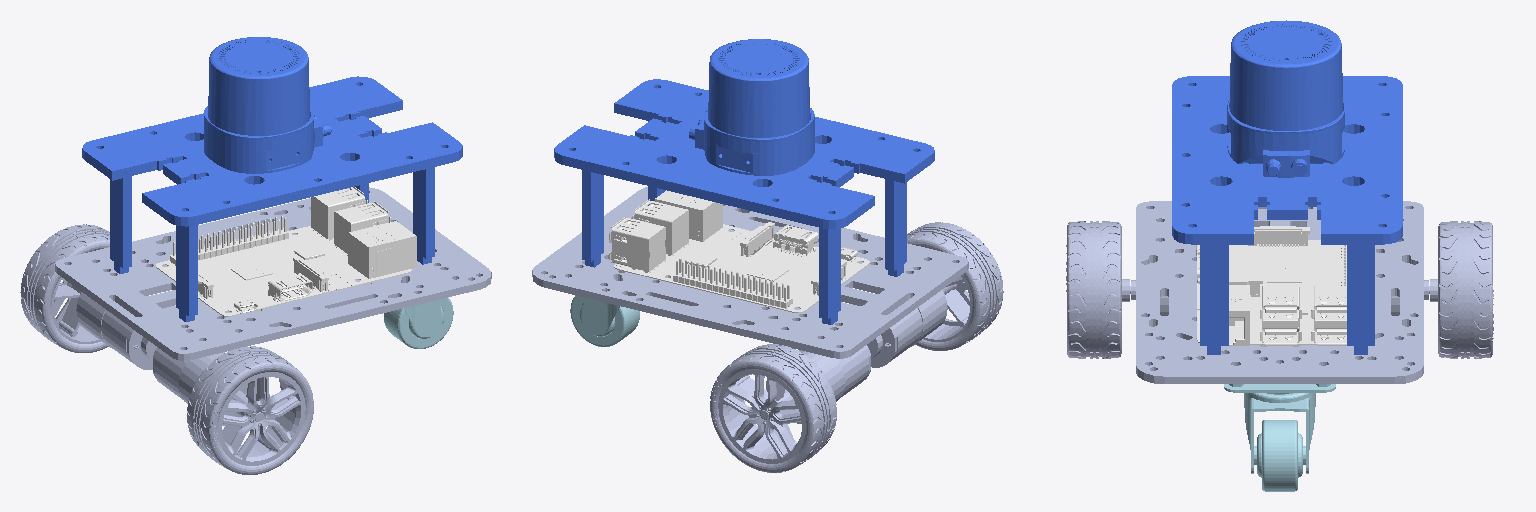
The robot description file, URDF, robot "robot_description":
<?xml version="1.0" encoding="utf-8"?>
<!-- This URDF was automatically created by SolidWorks to URDF Exporter! Originally created by [author] ([email redacted]) 
     Commit Version: 1.6.0-4-g7f85cfe  Build Version: 1.6.7995.38578
     For more information, please see http://wiki.ros.org/sw_urdf_exporter -->
<robot
  name="robot_description">

  <link name="base_footprint"/>

  <joint name="base_joint" type="fixed">
    <parent link="base_footprint"/>
    <child link="base_link"/>
    <origin xyz="0.0 0.0 0.05" rpy="0 0 0"/>
  </joint>

  <link
    name="base_link">
    <inertial>
      <origin
        xyz="2.6246E-14 2.3582E-14 -0.0015"
        rpy="0 0 0" />
      <mass
        value="0.039002" />
      <inertia
        ixx="3.2716E-05"
        ixy="-2.1462E-13"
        ixz="-2.6892E-20"
        iyy="6.7767E-05"
        iyz="1.2263E-20"
        izz="0.00010042" />
    </inertial>
    <visual>
      <origin
        xyz="0 0 0"
        rpy="0 0 0" />
      <geometry>
        <mesh
          filename="package://robot_description/meshes/base_link.STL" />
      </geometry>
      <material
        name="">
        <color
          rgba="0.79216 0.81961 0.93333 1" />
      </material>
    </visual>
    <collision>
      <origin
        xyz="0 0 0"
        rpy="0 0 0" />
      <geometry>
        <mesh
          filename="package://robot_description/meshes/base_link.STL" />
      </geometry>
    </collision>
  </link>
  <link
    name="wheel_left_Link">
    <inertial>
      <origin
        xyz="3.2081E-06 -0.027055 0.00013509"
        rpy="0 0 0" />
      <mass
        value="0.035371" />
      <inertia
        ixx="7.2964E-06"
        ixy="-1.2651E-09"
        ixz="-6.992E-11"
        iyy="7.5055E-06"
        iyz="1.0517E-07"
        izz="7.2459E-06" />
    </inertial>
    <visual>
      <origin
        xyz="0 0 0"
        rpy="0 0 0" />
      <geometry>
        <mesh
          filename="package://robot_description/meshes/wheel_left_Link.STL" />
      </geometry>
      <material
        name="">
        <color
          rgba="0.79216 0.81961 0.93333 1" />
      </material>
    </visual>
    <collision>
      <origin
        xyz="0 0 0"
        rpy="0 0 0" />
      <geometry>
        <mesh
          filename="package://robot_description/meshes/wheel_left_Link.STL" />
      </geometry>
    </collision>
  </link>
  <joint
    name="wheel_left_joint"
    type="continuous">
    <origin
      xyz="-0.048791 0.0715 -0.023"
      rpy="0 0 0" />
    <parent
      link="base_link" />
    <child
      link="wheel_left_Link" />
    <axis
      xyz="0 -1 0" />
  </joint>
  <link
    name="wheel_right_Link">
    <inertial>
      <origin
        xyz="-3.2081E-06 0.027055 0.00013509"
        rpy="0 0 0" />
      <mass
        value="0.035371" />
      <inertia
        ixx="7.2964E-06"
        ixy="-1.2651E-09"
        ixz="6.992E-11"
        iyy="7.5055E-06"
        iyz="-1.0517E-07"
        izz="7.2459E-06" />
    </inertial>
    <visual>
      <origin
        xyz="0 0 0"
        rpy="0 0 0" />
      <geometry>
        <mesh
          filename="package://robot_description/meshes/wheel_right_Link.STL" />
      </geometry>
      <material
        name="">
        <color
          rgba="0.79216 0.81961 0.93333 1" />
      </material>
    </visual>
    <collision>
      <origin
        xyz="0 0 0"
        rpy="0 0 0" />
      <geometry>
        <mesh
          filename="package://robot_description/meshes/wheel_right_Link.STL" />
      </geometry>
    </collision>
  </link>
  <joint
    name="wheel_right_joint"
    type="continuous">
    <origin
      xyz="-0.048791 -0.0715 -0.023"
      rpy="0 0 0" />
    <parent
      link="base_link" />
    <child
      link="wheel_right_Link" />
    <axis
      xyz="0 -1 0" />
  </joint>
  <link
    name="wheel_universal_Link">
    <inertial>
      <origin
        xyz="-0.0049043 0.0072459 0.0084569"
        rpy="0 0 0" />
      <mass
        value="0.010932" />
      <inertia
        ixx="1.9746E-06"
        ixy="1.5756E-10"
        ixz="7.6294E-07"
        iyy="2.4635E-06"
        iyz="-2.4689E-10"
        izz="1.3438E-06" />
    </inertial>
    <visual>
      <origin
        xyz="0 0 0"
        rpy="0 0 0" />
      <geometry>
        <mesh
          filename="package://robot_description/meshes/wheel_universal_Link.STL" />
      </geometry>
      <material
        name="">
        <color
          rgba="0.74118 0.90196 0.95686 1" />
      </material>
    </visual>
    <collision>
      <origin
        xyz="0 0 0"
        rpy="0 0 0" />
      <geometry>
        <mesh
          filename="package://robot_description/meshes/wheel_universal_Link.STL" />
      </geometry>
    </collision>
  </link>
  <joint
    name="wheel_universal_joint"
    type="fixed">
    <origin
      xyz="0.063633 -0.0072487 -0.034"
      rpy="0 0 0" />
    <parent
      link="base_link" />
    <child
      link="wheel_universal_Link" />
    <axis
      xyz="0 0 0" />
  </joint>
  <link
    name="laser_Link">
    <inertial>
      <origin
        xyz="-0.0030189 -0.00020139 -0.019649"
        rpy="0 0 0" />
      <mass
        value="0.094023" />
      <inertia
        ixx="3.4259E-05"
        ixy="-1.2348E-09"
        ixz="-2.1308E-07"
        iyy="5.7727E-05"
        iyz="-8.9097E-10"
        izz="7.5176E-05" />
    </inertial>
    <visual>
      <origin
        xyz="0 0 0"
        rpy="0 0 0" />
      <geometry>
        <mesh
          filename="package://robot_description/meshes/laser_Link.STL" />
      </geometry>
      <material
        name="">
        <color
          rgba="0.37255 0.55686 1 1" />
      </material>
    </visual>
    <collision>
      <origin
        xyz="0 0 0"
        rpy="0 0 0" />
      <geometry>
        <mesh
          filename="package://robot_description/meshes/laser_Link.STL" />
      </geometry>
    </collision>
  </link>
  <joint
    name="laser_joint"
    type="fixed">
    <origin
      xyz="-0.0064435 0.002216 0.078664"
      rpy="0 0 3.1416" />
    <parent
      link="base_link" />
    <child
      link="laser_Link" />
    <axis
      xyz="0 0 0" />
  </joint>
  <link
    name="imu_Link">
    <inertial>
      <origin
        xyz="-0.021463 0.017572 -0.010408"
        rpy="0 0 0" />
      <mass
        value="0.017226" />
      <inertia
        ixx="2.2162E-06"
        ixy="3.6168E-10"
        ixz="-1.8429E-08"
        iyy="4.9944E-06"
        iyz="3.6637E-11"
        izz="7.034E-06" />
    </inertial>
    <visual>
      <origin
        xyz="0 0 0"
        rpy="0 0 0" />
      <geometry>
        <mesh
          filename="package://robot_description/meshes/imu_Link.STL" />
      </geometry>
      <material
        name="">
        <color
          rgba="1 1 1 1" />
      </material>
    </visual>
    <collision>
      <origin
        xyz="0 0 0"
        rpy="0 0 0" />
      <geometry>
        <mesh
          filename="package://robot_description/meshes/imu_Link.STL" />
      </geometry>
    </collision>
  </link>
  <joint
    name="imu_joint"
    type="fixed">
    <origin
      xyz="0.037033 -0.018447 0.013909"
      rpy="0 0 0" />
    <parent
      link="base_link" />
    <child
      link="imu_Link" />
    <axis
      xyz="0 0 0" />
  </joint>
</robot>

--- What the picture shows (computed from the rendered views, not written in the file) ---
Views: 3 orthographic renders of the robot side by side, from view 1: azimuth 30°, elevation 25°; view 2: azimuth 150°, elevation 25°; view 3: azimuth 270°, elevation 25°.
Model robot_description with 7 links and 6 joints (2 continuous, 4 fixed), rooted at base_footprint, posed every joint at zero.
Links seen in each view (by area): view 1: laser_Link, base_link, imu_Link, wheel_right_Link, wheel_left_Link, wheel_universal_Link; view 2: laser_Link, base_link, imu_Link, wheel_left_Link, wheel_right_Link, wheel_universal_Link; view 3: laser_Link, base_link, imu_Link, wheel_left_Link, wheel_right_Link, wheel_universal_Link.
Link boxes in pixels (bbox=[...]): laser_Link: bbox=[82, 37, 462, 321]; base_link: bbox=[55, 187, 491, 360]; imu_Link: bbox=[156, 187, 416, 316]; wheel_right_Link: bbox=[153, 346, 313, 474]; wheel_left_Link: bbox=[20, 224, 172, 369]; wheel_universal_Link: bbox=[384, 297, 453, 348]; laser_Link: bbox=[554, 39, 934, 324]; base_link: bbox=[532, 187, 968, 358]; imu_Link: bbox=[609, 190, 869, 312]; wheel_left_Link: bbox=[710, 344, 870, 472]; wheel_right_Link: bbox=[851, 222, 1003, 367]; wheel_universal_Link: bbox=[570, 295, 639, 346]; laser_Link: bbox=[1172, 20, 1402, 354]; base_link: bbox=[1136, 201, 1423, 383]; imu_Link: bbox=[1196, 226, 1346, 346]; wheel_left_Link: bbox=[1391, 221, 1493, 358]; wheel_right_Link: bbox=[1066, 221, 1168, 358]; wheel_universal_Link: bbox=[1224, 384, 1335, 491].
Bounding box of the posed robot: 0.1489 × 0.1483 × 0.1386 m (x, y, z).
Meshes: 6 distinct files referenced, 6 mesh visuals loaded (6 binary STL).